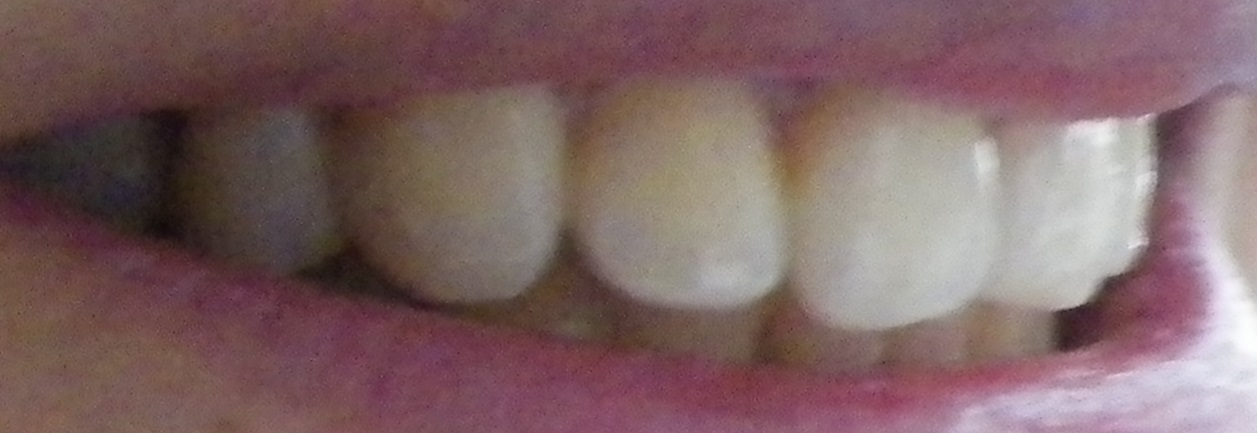boca: (99, 92, 1194, 374)
